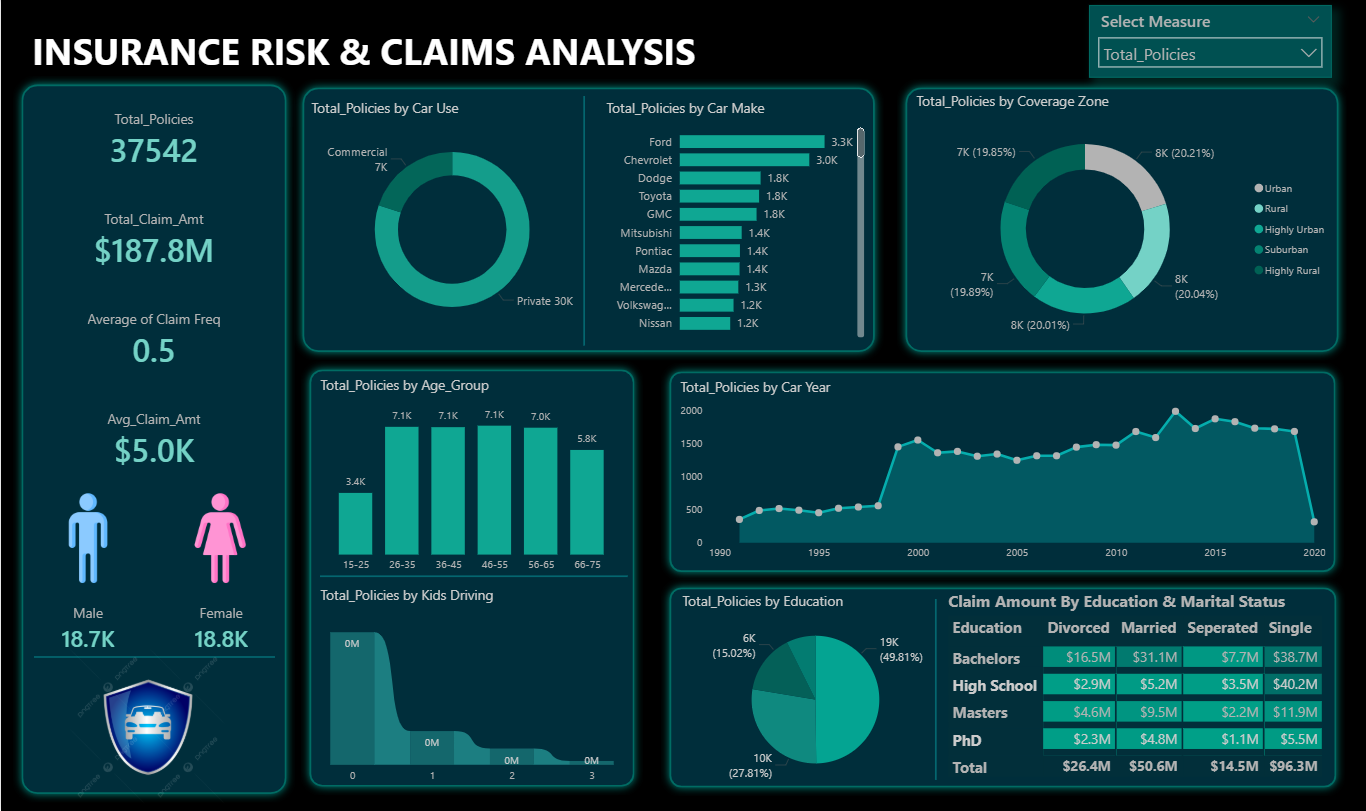

The page's visual inventory and layout, read from the dashboard file:
{"tool":"powerbi","page":{"name":"Page 1","canvas":[1600,950],"ordinal":0},"visuals":[{"type":"shape","box":[13.7,89.5,330,850],"z":0},{"type":"cardVisual","fields":{"Data":["insurance_data_car.Total_Policies","insurance_data_car.Total_claim_Amt","Avg(insurance_data_car.Claim Freq)","insurance_data_car.Avg_Claim_Amt"]},"box":[44.6,110,269.3,459.7],"z":1000},{"type":"group","id":"g1","title":"Group 1","box":[32.6,571.6,303.6,217.7],"z":2000},{"type":"slicer","fields":{"Values":["Select Measure.Select Measure"]},"box":[1272.9,5.9,283.5,84.7],"z":3000},{"type":"cardVisual","fields":{"Data":["insurance_data_car.Female_Count"]},"box":[178.4,679.5,157.8,109.8],"z":3000,"group":"g1"},{"type":"shape","box":[1048.5,92.7,526.5,329.4],"z":4000},{"type":"cardVisual","fields":{"Data":["insurance_data_car.Male_Count"]},"box":[32.6,679.5,138.9,109.8],"z":4000,"group":"g1"},{"type":"shape","box":[343,92,689.5,329.3],"z":5000,"group":"g2"},{"type":"shape","box":[351.5,422.1,400,508],"z":5000},{"type":"image","box":[199,571.6,114.9,114.9],"z":5000,"group":"g1"},{"type":"donutChart","fields":{"Y":["insurance_data_car.Total_Policies"],"Category":["insurance_data_car.Car Use"]},"box":[358.8,114.3,339.7,285.3],"z":6000,"group":"g2"},{"type":"shape","box":[772.1,425,799,254.4],"z":6000},{"type":"image","box":[44.6,571.6,114.9,114.9],"z":6000,"group":"g1"},{"type":"donutChart","fields":{"Y":["insurance_data_car.Total_Policies"],"Category":["insurance_data_car.Coverage Zone"]},"box":[1066.2,105.9,497.1,300],"z":7000},{"type":"clusteredBarChart","fields":{"Y":["insurance_data_car.Total_Policies"],"Category":["insurance_data_car.Car Make"]},"box":[702.9,114.3,311.8,285.3],"z":7000,"group":"g2"},{"type":"group","id":"g2","title":"Group 2","box":[343,92,689.5,329.3],"z":8000},{"type":"clusteredColumnChart","fields":{"Y":["insurance_data_car.Total_Policies"],"Category":["insurance_data_car.Age_Group"]},"box":[369.1,438.3,364.7,239.7],"z":9000},{"type":"ribbonChart","fields":{"Y":["insurance_data_car.Total_Policies"],"Category":["insurance_data_car.Kids Driving"]},"box":[368.3,683.8,365,240],"z":10000},{"type":"areaChart","fields":{"Y":["insurance_data_car.Total_Policies"],"Category":["insurance_data_car.Car Year"]},"box":[789.7,441.2,764.7,223.5],"z":11000},{"type":"shape","box":[772,676.8,800,254],"z":12000},{"type":"pieChart","fields":{"Y":["insurance_data_car.Total_Policies"],"Category":["insurance_data_car.Education"]},"box":[791.7,691.7,321.7,231.7],"z":13000},{"type":"pivotTable","title":"Claim Amount By Education & Marital Status","fields":{"Rows":["insurance_data_car.Education"],"Columns":["insurance_data_car.Marital Status"],"Values":["insurance_data_car.Total_claim_Amt"]},"box":[1103.3,690.5,450,230],"z":14000},{"type":"shape","box":[667.7,111.9,28.5,292.3],"z":15000},{"type":"shape","box":[1078.3,700.5,30,211.7],"z":16000},{"type":"shape","box":[373.3,657.2,360,33.3],"z":17000},{"type":"shape","box":[38.2,752.5,281.8,32.7],"z":18000},{"type":"image","box":[58.4,752.4,226.7,197.5],"z":19000},{"type":"textbox","box":[31.7,25,813.3,71.7],"z":20000}]}

Visuals, with their boxes in screenshot pixels (x1, y1, x2, y2), scaled from the page's 1600x950 canvas onto the 1366x811 screenshot:
shape: 12:76:293:802
cardVisual - insurance_data_car.Total_Policies x insurance_data_car.Total_claim_Amt: 38:94:268:486
"Group 1" group: 28:488:287:674
slicer - Select Measure.Select Measure: 1087:5:1329:77
cardVisual - insurance_data_car.Female_Count: 152:580:287:674
shape: 895:79:1345:360
cardVisual - insurance_data_car.Male_Count: 28:580:146:674
shape: 293:79:881:360
shape: 300:360:642:794
image: 170:488:268:586
donutChart - insurance_data_car.Total_Policies x insurance_data_car.Car Use: 306:98:596:341
shape: 659:363:1341:580
image: 38:488:136:586
donutChart - insurance_data_car.Total_Policies x insurance_data_car.Coverage Zone: 910:90:1335:347
clusteredBarChart - insurance_data_car.Total_Policies x insurance_data_car.Car Make: 600:98:866:341
"Group 2" group: 293:79:881:360
clusteredColumnChart - insurance_data_car.Total_Policies x insurance_data_car.Age_Group: 315:374:626:579
ribbonChart - insurance_data_car.Total_Policies x insurance_data_car.Kids Driving: 314:584:626:789
areaChart - insurance_data_car.Total_Policies x insurance_data_car.Car Year: 674:377:1327:567
shape: 659:578:1342:795
pieChart - insurance_data_car.Total_Policies x insurance_data_car.Education: 676:590:951:788
"Claim Amount By Education & Marital Status" pivotTable: 942:589:1326:786
shape: 570:96:594:345
shape: 921:598:946:779
shape: 319:561:626:589
shape: 33:642:273:670
image: 50:642:243:810
textbox: 27:21:721:83
